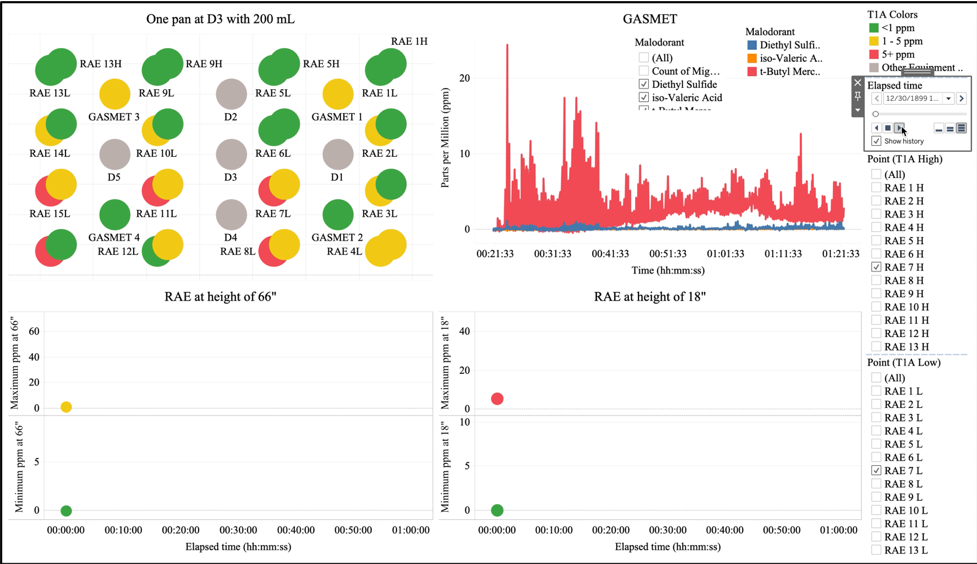

What the dashboard file says about the page in this screenshot:
{"tool":"tableau","page":{"name":"T1A Quad","canvas":[1000,1000],"units":"permille","ordinal":0},"visuals":[{"type":"worksheet","box":[0,0,1000,1000]},{"type":"worksheet","param":"horz","box":[5.5,9.5,989.1,981.1]},{"type":"worksheet","box":[5.5,9.5,880.2,981.1]},{"type":"worksheet","title":"T1A RAE","mark":"Automatic","rows":["Y"],"cols":["X"],"box":[5.5,9.5,440,490.5]},{"type":"worksheet","title":"T1A GASMET","mark":"Automatic","cols":["Time"],"box":[445.5,9.5,440.1,490.5]},{"type":"worksheet","param":"vert","box":[885.6,9.5,108.9,981.1]},{"type":"worksheet","title":"T1A RAE","mark":"Automatic","rows":["Y"],"cols":["X"],"param":"[federated.0ssedgi1ve98pr1do2rzn0q59bet].[usr:Calculation_554787233368272902:nk]","box":[885.6,9.5,108.9,121.9]},{"type":"worksheet","title":"T1A GASMET","mark":"Automatic","cols":["Time"],"param":"[federated.1gzzlod1afd73z15l68ac09r489h].[:Measure Names]","box":[795.1,14.2,84.4,123.1]},{"type":"worksheet","title":"T1A RAE","mark":"Automatic","rows":["Y"],"cols":["X"],"box":[885.6,131.4,108.9,131.4]},{"type":"worksheet","title":"T1A GASMET","mark":"Automatic","cols":["Time"],"param":"[federated.1gzzlod1afd73z15l68ac09r489h].[:Measure Names]","box":[332.2,247.3,93.9,131.4]},{"type":"worksheet","title":"T1A High Traces","mark":"Automatic","rows":["Calculation_554787233356382212","Calculation_554787233356382212"],"cols":["Elapsed time"],"param":"[federated.0ssedgi1ve98pr1do2rzn0q59bet].[none:Point (T1A High):nk]","box":[885.6,262.7,108.9,363.9]},{"type":"worksheet","title":"T1A High Traces","mark":"Automatic","rows":["Calculation_554787233356382212","Calculation_554787233356382212"],"cols":["Elapsed time"],"box":[5.5,500,440.1,490.5]},{"type":"worksheet","title":"T1A Low Traces","mark":"Automatic","rows":["Calculation_554787233356472325","Calculation_554787233356472325"],"cols":["Elapsed time"],"box":[445.5,500,440.1,490.5]},{"type":"worksheet","title":"T1A Low Traces","mark":"Automatic","rows":["Calculation_554787233356472325","Calculation_554787233356472325"],"cols":["Elapsed time"],"param":"[federated.0ssedgi1ve98pr1do2rzn0q59bet].[none:Point (T1A Low):nk]","box":[885.6,626.6,108.9,363.9]}]}

Visuals, with their boxes on the dashboard's canvas, which has no fixed pixel size, in thousandths of its width and height (x1, y1, x2, y2). These are canvas units, not pixel positions in the 977x564 screenshot, which may show the page scaled, cropped or inside an application window:
worksheet: 0,0,1000,1000
worksheet: 6,10,995,991
worksheet: 6,10,886,991
"T1A RAE" worksheet: 6,10,446,500
"T1A GASMET" worksheet: 446,10,886,500
worksheet: 886,10,994,991
"T1A RAE" worksheet: 886,10,994,131
"T1A GASMET" worksheet: 795,14,880,137
"T1A RAE" worksheet: 886,131,994,263
"T1A GASMET" worksheet: 332,247,426,379
"T1A High Traces" worksheet: 886,263,994,627
"T1A High Traces" worksheet: 6,500,446,990
"T1A Low Traces" worksheet: 446,500,886,990
"T1A Low Traces" worksheet: 886,627,994,990
